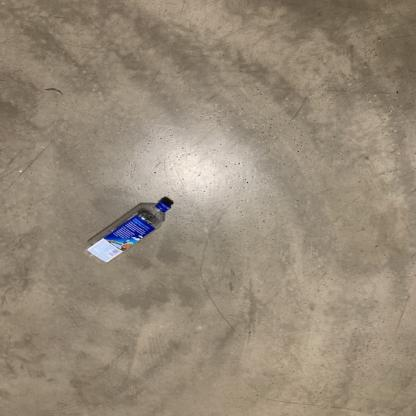trash: (80, 200, 176, 265)
